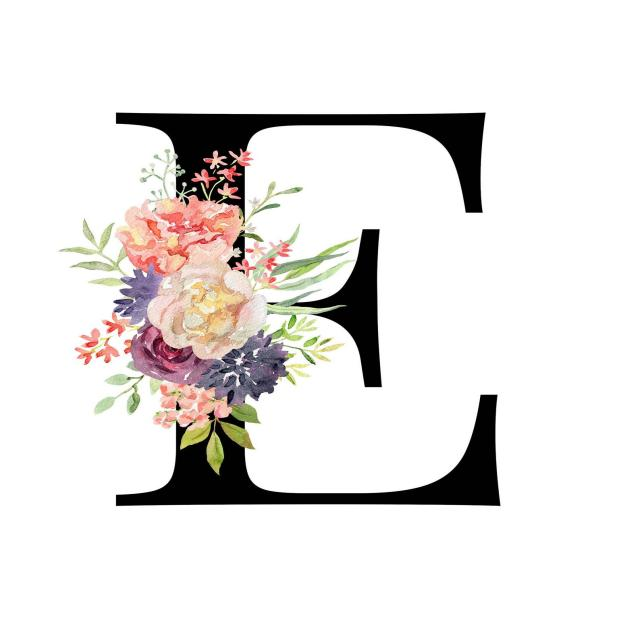E: (110, 92, 543, 544)
